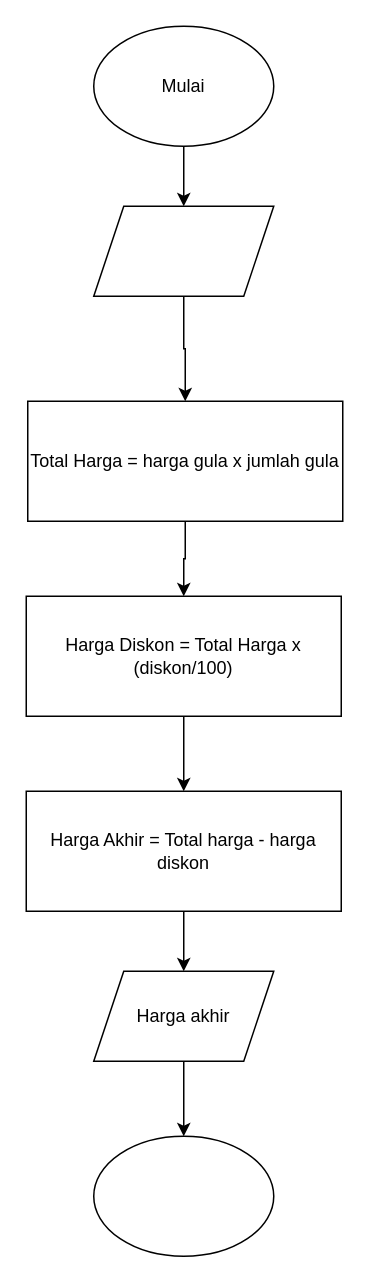
This 369x1283 diagram has some shape labels left out. The centre of each missing label's shape, as x and y in pixels:
"float diskon float harga gula int jumlah gula" belongs at (x=183, y=250).
"Selesai" belongs at (x=183, y=1195).
